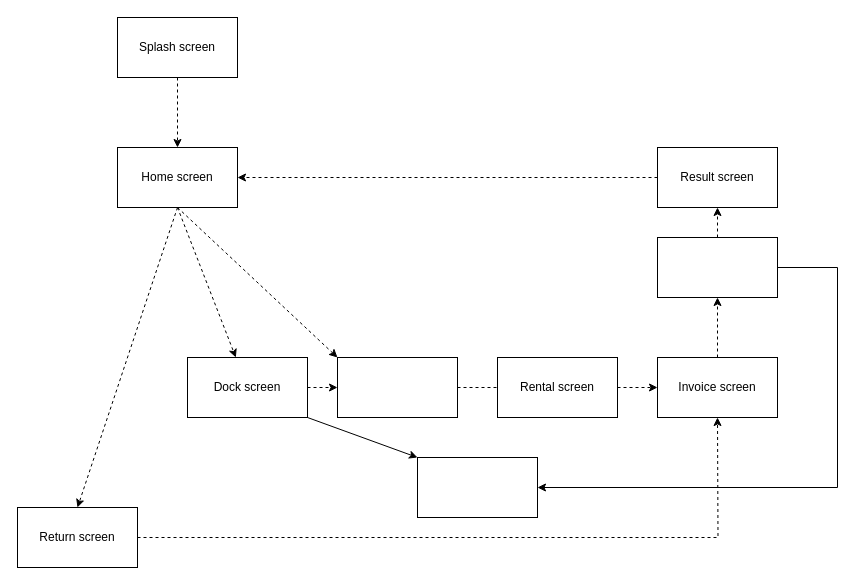
The diagram is 863 pixels wide and 585 high, and some of its shapes have lost their labels. The centre of each missing label's shape, as x and y in pixels:
"Bike screen" goes at point (397, 387).
"Error screen" goes at point (477, 487).
"Payment screen" goes at point (717, 267).
